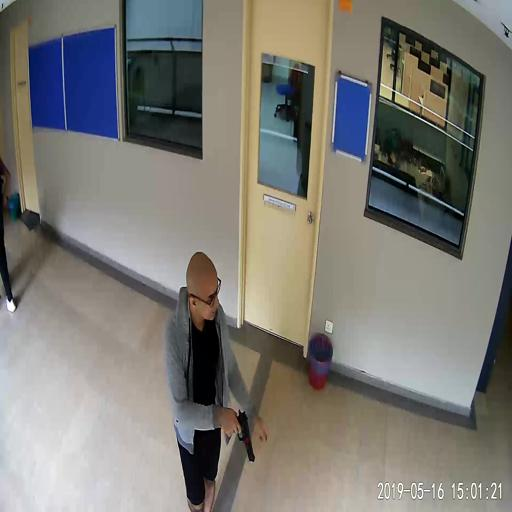pistol: (228, 409, 254, 464)
